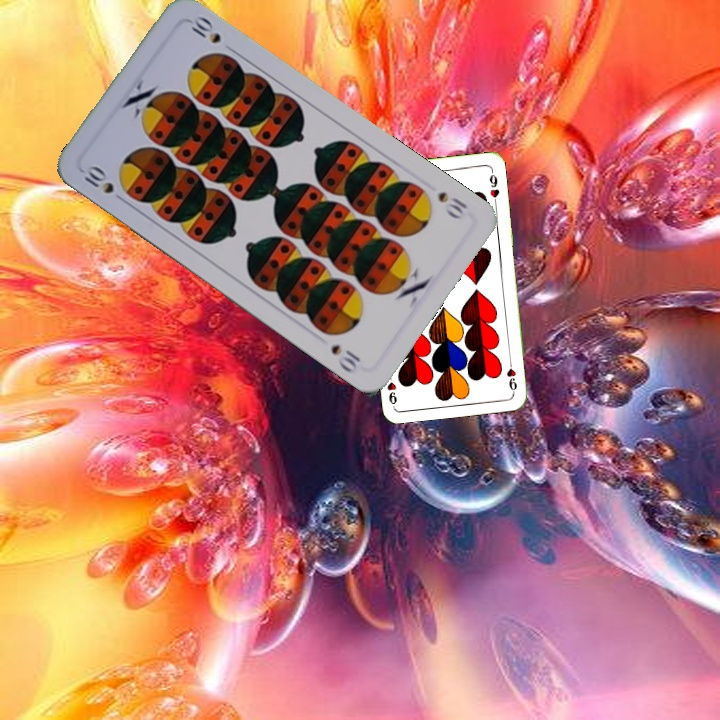H9: (503, 354, 519, 395)
S10: (80, 161, 117, 197), (434, 187, 471, 222)
